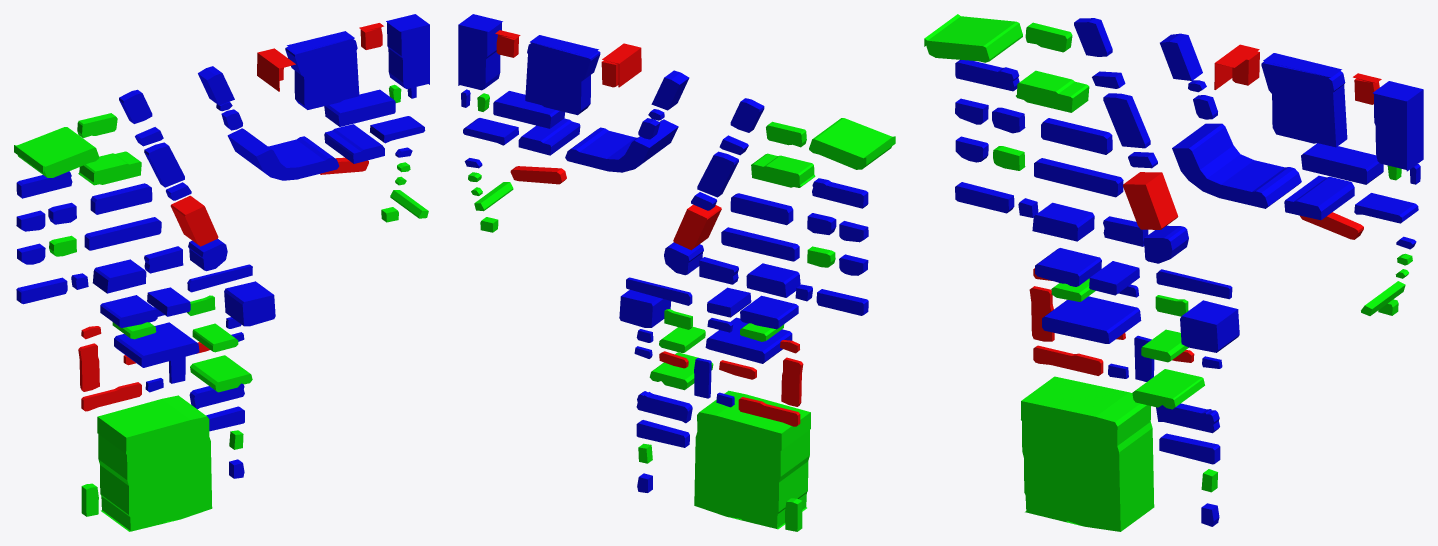
The picture shows the model from 3 angles, left to right: view 1: azimuth 30°, elevation 25°; view 2: azimuth 150°, elevation 25°; view 3: azimuth 330°, elevation 25°; orthographic projection. The views are drawn at different scales.
Parts seen in each view (by area): view 1: building_61, building_2, building_19, building_4, building_9, building_49, building_44, building_17, building_20, building_13, building_57, building_27 (+27 smaller); view 2: building_61, building_2, building_19, building_4, building_9, building_49, building_13, building_17, building_31, building_44, building_20, building_37 (+28 smaller); view 3: building_61, building_2, building_19, building_4, building_9, building_49, building_44, building_27, building_17, building_13, building_20, building_31 (+31 smaller).
Part boxes in pixels (bbox=[...]): building_61: bbox=[97, 395, 212, 531]; building_2: bbox=[285, 31, 359, 109]; building_19: bbox=[227, 128, 339, 180]; building_4: bbox=[386, 14, 429, 88]; building_9: bbox=[14, 127, 99, 177]; building_49: bbox=[114, 322, 199, 367]; building_44: bbox=[224, 281, 275, 326]; building_17: bbox=[324, 89, 395, 126]; building_20: bbox=[324, 124, 384, 163]; building_13: bbox=[78, 151, 141, 185]; building_57: bbox=[190, 355, 252, 392]; building_27: bbox=[170, 195, 218, 246]; building_61: bbox=[694, 390, 810, 529]; building_2: bbox=[525, 35, 600, 115]; building_19: bbox=[565, 119, 678, 172]; building_4: bbox=[458, 14, 502, 90]; building_9: bbox=[809, 118, 895, 169]; building_49: bbox=[705, 317, 792, 363]; building_13: bbox=[751, 153, 815, 187]; building_17: bbox=[493, 91, 564, 128]; building_31: bbox=[721, 227, 799, 261]; building_44: bbox=[619, 290, 671, 327]; building_20: bbox=[518, 118, 580, 155]; building_37: bbox=[746, 263, 800, 297]; building_61: bbox=[1021, 376, 1154, 531]; building_2: bbox=[1261, 53, 1347, 147]; building_19: bbox=[1172, 123, 1301, 208]; building_4: bbox=[1373, 81, 1423, 171]; building_9: bbox=[924, 14, 1022, 62]; building_49: bbox=[1042, 296, 1141, 343]; building_44: bbox=[1180, 300, 1239, 352]; building_27: bbox=[1123, 172, 1178, 229]; building_17: bbox=[1301, 143, 1383, 184]; building_13: bbox=[1016, 70, 1089, 112]; building_20: bbox=[1284, 175, 1354, 220]; building_31: bbox=[1034, 158, 1123, 197].
Size of the model in its own units: 2047 by 2047 by 255.
